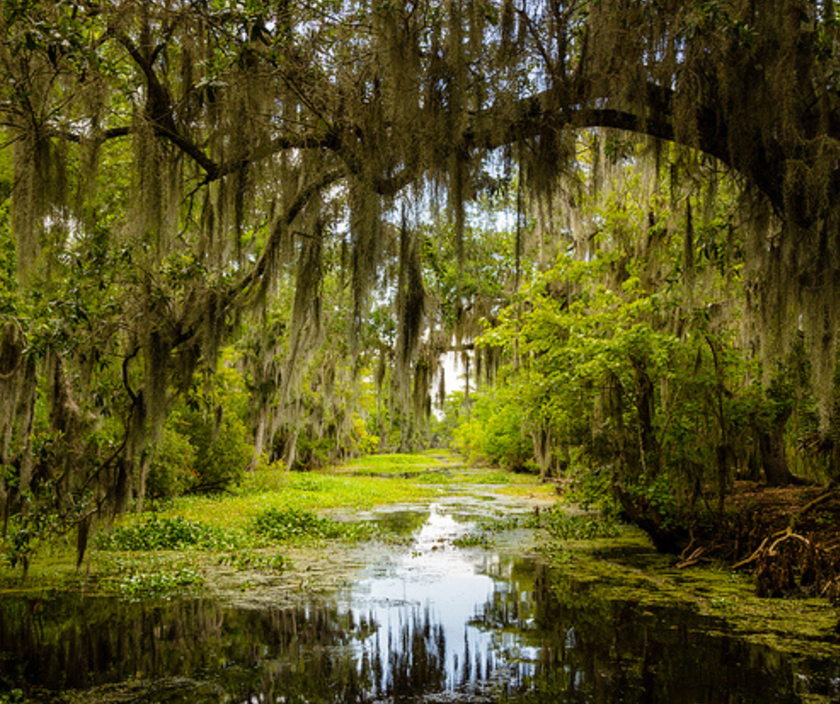vegetation: (479, 172, 840, 556), (9, 494, 364, 592), (188, 450, 428, 509)
water: (5, 590, 840, 703), (367, 530, 473, 601), (464, 548, 580, 597), (427, 506, 477, 545)
